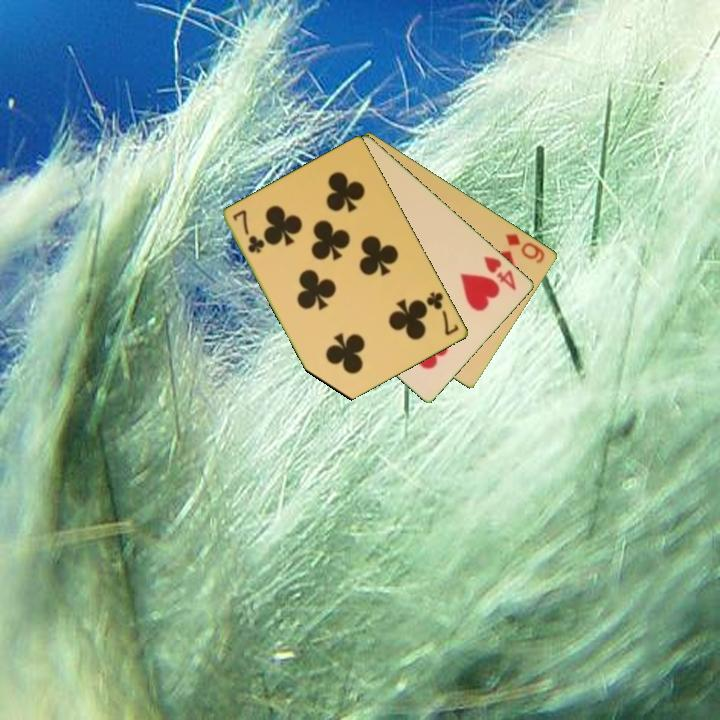4h: (481, 252, 520, 293)
6d: (502, 230, 548, 266)
7c: (423, 288, 462, 339), (229, 206, 267, 256)
